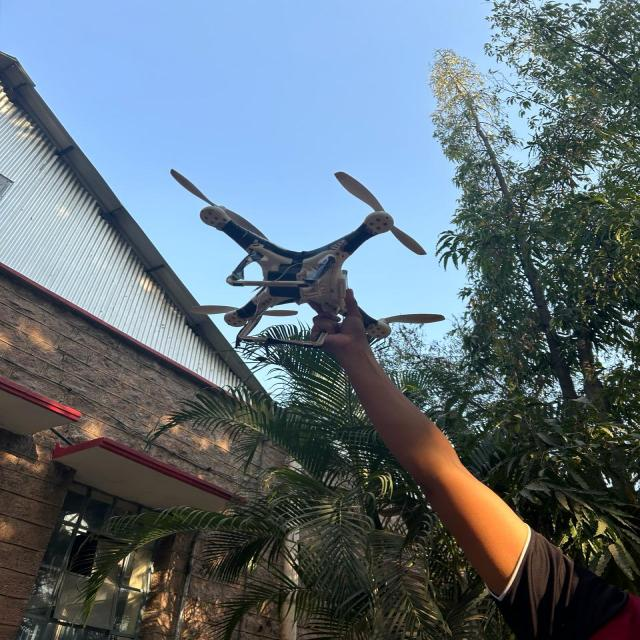drone: (136, 140, 490, 387)
